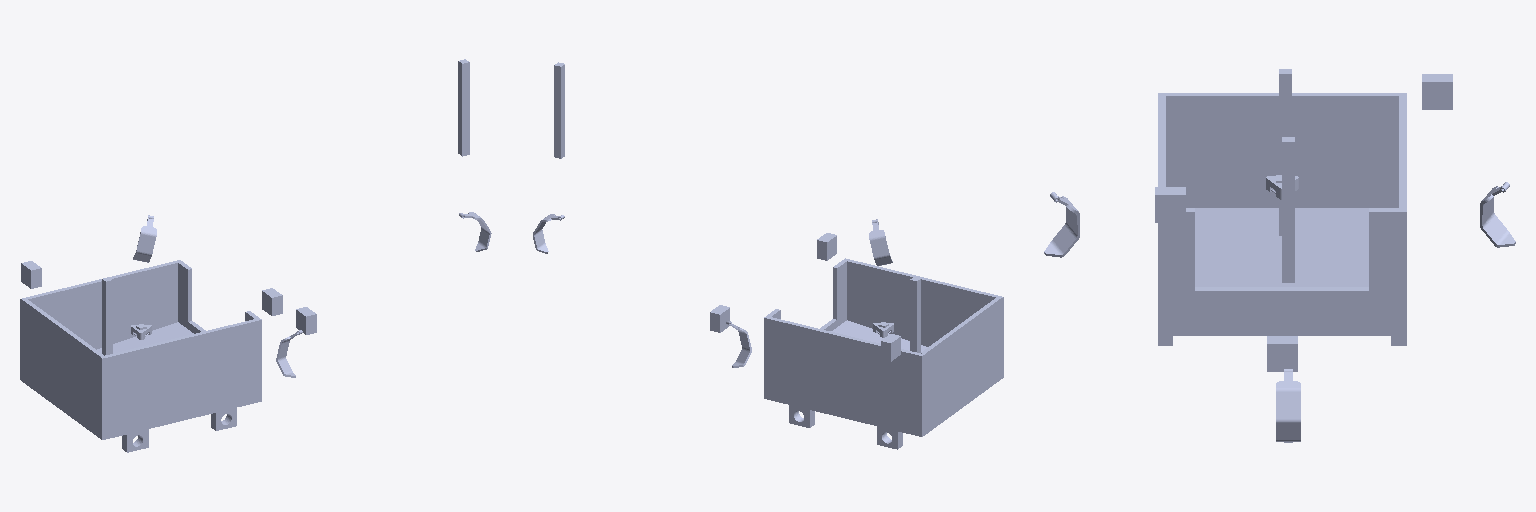
robot.urdf — bot12:
<?xml version="1.0" encoding="utf-8"?>
<!-- This URDF was automatically created by SolidWorks to URDF Exporter! Originally created by [author] ([email redacted]) 
     Commit Version: 1.4.4-24-g24328f6  Build Version: 1.5.7084.36479
     For more information, please see http://wiki.ros.org/sw_urdf_exporter -->
<robot
  name="bot12">
  <link
    name="base_link">
    <inertial>
      <origin
        xyz="0.029232 0.047061 -5.6957E-05"
        rpy="0 0 0" />
      <mass
        value="10.067" />
      <inertia
        ixx="0.22006"
        ixy="-0.0014375"
        ixz="-6.9803E-05"
        iyy="0.35668"
        iyz="7.4306E-05"
        izz="0.19974" />
    </inertial>
    <visual>
      <origin
        xyz="0 0 0"
        rpy="0 0 0" />
      <geometry>
        <mesh
          filename="package://bot12/meshes/base_link.STL" />
      </geometry>
      <material
        name="">
        <color
          rgba="0.79216 0.81961 0.93333 1" />
      </material>
    </visual>
    <collision>
      <origin
        xyz="0 0 0"
        rpy="0 0 0" />
      <geometry>
        <mesh
          filename="package://bot12/meshes/base_link.STL" />
      </geometry>
    </collision>
  </link>
  <link
    name="FRW">
    <inertial>
      <origin
        xyz="0 -7.5392E-05 -0.089381"
        rpy="0 0 0" />
      <mass
        value="0.8334" />
      <inertia
        ixx="0.0021574"
        ixy="4.8789E-19"
        ixz="1.756E-19"
        iyy="0.0021606"
        iyz="-8.5571E-07"
        izz="0.0039286" />
    </inertial>
    <visual>
      <origin
        xyz="0 0 0"
        rpy="0 0 0" />
      <geometry>
        <mesh
          filename="package://bot12/meshes/FRW.STL" />
      </geometry>
      <material
        name="">
        <color
          rgba="0.79216 0.81961 0.93333 1" />
      </material>
    </visual>
    <collision>
      <origin
        xyz="0 0 0"
        rpy="0 0 0" />
      <geometry>
        <mesh
          filename="package://bot12/meshes/FRW.STL" />
      </geometry>
    </collision>
  </link>
  <joint
    name="FRWJ"
    type="continuous">
    <origin
      xyz="0.125 -0.13 -0.025"
      rpy="1.5708 0.39309 -3.1416" />
    <parent
      link="base_link" />
    <child
      link="FRW" />
    <axis
      xyz="0 0 1" />
    <safety_controller
      k_velocity="0" />
  </joint>
  <link
    name="RRW">
    <inertial>
      <origin
        xyz="-2.7756E-17 -7.5392E-05 -0.089381"
        rpy="0 0 0" />
      <mass
        value="0.8334" />
      <inertia
        ixx="0.0021574"
        ixy="6.5052E-19"
        ixz="4.6852E-20"
        iyy="0.0021606"
        iyz="-8.5571E-07"
        izz="0.0039286" />
    </inertial>
    <visual>
      <origin
        xyz="0 0 0"
        rpy="0 0 0" />
      <geometry>
        <mesh
          filename="package://bot12/meshes/RRW.STL" />
      </geometry>
      <material
        name="">
        <color
          rgba="0.79216 0.81961 0.93333 1" />
      </material>
    </visual>
    <collision>
      <origin
        xyz="0 0 0"
        rpy="0 0 0" />
      <geometry>
        <mesh
          filename="package://bot12/meshes/RRW.STL" />
      </geometry>
    </collision>
  </link>
  <joint
    name="RRWJ"
    type="continuous">
    <origin
      xyz="-0.125 -0.13 -0.025"
      rpy="1.5707963267949 0.39309481042652 -3.14159265358979" />
    <parent
      link="base_link" />
    <child
      link="RRW" />
    <axis
      xyz="0 0 1" />
    <safety_controller
      k_velocity="0" />
  </joint>
  <link
    name="FLW">
    <inertial>
      <origin
        xyz="0 -7.5392E-05 -0.089381"
        rpy="0 0 0" />
      <mass
        value="0.8334" />
      <inertia
        ixx="0.0021574"
        ixy="-8.7964E-21"
        ixz="2.7837E-19"
        iyy="0.0021606"
        iyz="-8.5571E-07"
        izz="0.0039286" />
    </inertial>
    <visual>
      <origin
        xyz="0 0 0"
        rpy="0 0 0" />
      <geometry>
        <mesh
          filename="package://bot12/meshes/FLW.STL" />
      </geometry>
      <material
        name="">
        <color
          rgba="0.79216 0.81961 0.93333 1" />
      </material>
    </visual>
    <collision>
      <origin
        xyz="0 0 0"
        rpy="0 0 0" />
      <geometry>
        <mesh
          filename="package://bot12/meshes/FLW.STL" />
      </geometry>
    </collision>
  </link>
  <joint
    name="FLWJ"
    type="continuous">
    <origin
      xyz="0.125000000000004 0.13 -0.025"
      rpy="1.5707963267949 0 0" />
    <parent
      link="base_link" />
    <child
      link="FLW" />
    <axis
      xyz="0 0 1" />
    <safety_controller
      k_velocity="0" />
  </joint>
  <link
    name="RLW">
    <inertial>
      <origin
        xyz="-1.3878E-17 -7.5392E-05 -0.089381"
        rpy="0 0 0" />
      <mass
        value="0.8334" />
      <inertia
        ixx="0.0021574"
        ixy="-8.7964E-21"
        ixz="2.7837E-19"
        iyy="0.0021606"
        iyz="-8.5571E-07"
        izz="0.0039286" />
    </inertial>
    <visual>
      <origin
        xyz="0 0 0"
        rpy="0 0 0" />
      <geometry>
        <mesh
          filename="package://bot12/meshes/RLW.STL" />
      </geometry>
      <material
        name="">
        <color
          rgba="0.79216 0.81961 0.93333 1" />
      </material>
    </visual>
    <collision>
      <origin
        xyz="0 0 0"
        rpy="0 0 0" />
      <geometry>
        <mesh
          filename="package://bot12/meshes/RLW.STL" />
      </geometry>
    </collision>
  </link>
  <joint
    name="RLWJ"
    type="continuous">
    <origin
      xyz="-0.124999999999996 0.13 -0.025"
      rpy="1.5707963267949 0 0" />
    <parent
      link="base_link" />
    <child
      link="RLW" />
    <axis
      xyz="0 0 1" />
    <safety_controller
      k_velocity="0" />
  </joint>
  <link
    name="FC">
    <inertial>
      <origin
        xyz="0.015 -6.9389E-18 -3.7101E-17"
        rpy="0 0 0" />
      <mass
        value="0.075" />
      <inertia
        ixx="3.125E-05"
        ixy="0"
        ixz="-4.5918E-38"
        iyy="2.125E-05"
        iyz="-1.9516E-21"
        izz="2.125E-05" />
    </inertial>
    <visual>
      <origin
        xyz="0 0 0"
        rpy="0 0 0" />
      <geometry>
        <mesh
          filename="package://bot12/meshes/FC.STL" />
      </geometry>
      <material
        name="">
        <color
          rgba="0.79216 0.81961 0.93333 1" />
      </material>
    </visual>
    <collision>
      <origin
        xyz="0 0 0"
        rpy="0 0 0" />
      <geometry>
        <mesh
          filename="package://bot12/meshes/FC.STL" />
      </geometry>
    </collision>
  </link>
  <joint
    name="FCJ"
    type="fixed">
    <origin
      xyz="0.225 0 0.04"
      rpy="1.5707963267949 0 0" />
    <parent
      link="base_link" />
    <child
      link="FC" />
    <axis
      xyz="0 0 0" />
    <safety_controller
      k_velocity="0" />
  </joint>
  <link
    name="RC">
    <inertial>
      <origin
        xyz="0.015 0 -6.9389E-18"
        rpy="0 0 0" />
      <mass
        value="0.075" />
      <inertia
        ixx="3.125E-05"
        ixy="-1.6263E-22"
        ixz="4.2352E-22"
        iyy="2.125E-05"
        iyz="-1.3056E-21"
        izz="2.125E-05" />
    </inertial>
    <visual>
      <origin
        xyz="0 0 0"
        rpy="0 0 0" />
      <geometry>
        <mesh
          filename="package://bot12/meshes/RC.STL" />
      </geometry>
      <material
        name="">
        <color
          rgba="0.79216 0.81961 0.93333 1" />
      </material>
    </visual>
    <collision>
      <origin
        xyz="0 0 0"
        rpy="0 0 0" />
      <geometry>
        <mesh
          filename="package://bot12/meshes/RC.STL" />
      </geometry>
    </collision>
  </link>
  <joint
    name="RCJ"
    type="fixed">
    <origin
      xyz="0.0500000000000001 -0.23 0.125"
      rpy="1.5707963267949 0 1.5707963267949" />
    <parent
      link="base_link" />
    <child
      link="RC" />
    <axis
      xyz="0 0 0" />
    <safety_controller
      k_velocity="0" />
  </joint>
  <link
    name="LC">
    <inertial>
      <origin
        xyz="0.015 0 6.9389E-18"
        rpy="0 0 0" />
      <mass
        value="0.075" />
      <inertia
        ixx="3.125E-05"
        ixy="-1.6263E-22"
        ixz="4.2352E-22"
        iyy="2.125E-05"
        iyz="6.5052E-22"
        izz="2.125E-05" />
    </inertial>
    <visual>
      <origin
        xyz="0 0 0"
        rpy="0 0 0" />
      <geometry>
        <mesh
          filename="package://bot12/meshes/LC.STL" />
      </geometry>
      <material
        name="">
        <color
          rgba="0.79216 0.81961 0.93333 1" />
      </material>
    </visual>
    <collision>
      <origin
        xyz="0 0 0"
        rpy="0 0 0" />
      <geometry>
        <mesh
          filename="package://bot12/meshes/LC.STL" />
      </geometry>
    </collision>
  </link>
  <joint
    name="LCJ"
    type="fixed">
    <origin
      xyz="0.05 0.2 0.125"
      rpy="1.5707963267949 0 1.5707963267949" />
    <parent
      link="base_link" />
    <child
      link="LC" />
    <axis
      xyz="0 0 0" />
    <safety_controller
      k_velocity="0" />
  </joint>
  <link
    name="B">
    <inertial>
      <origin
        xyz="0.00625 0.099085 -2.2196E-17"
        rpy="0 0 0" />
      <mass
        value="0.92892" />
      <inertia
        ixx="0.013926"
        ixy="-1.0304E-36"
        ixz="3.5706E-20"
        iyy="0.010898"
        iyz="-5.0118E-19"
        izz="0.0030521" />
    </inertial>
    <visual>
      <origin
        xyz="0 0 0"
        rpy="0 0 0" />
      <geometry>
        <mesh
          filename="package://bot12/meshes/B.STL" />
      </geometry>
      <material
        name="">
        <color
          rgba="0.79216 0.81961 0.93333 1" />
      </material>
    </visual>
    <collision>
      <origin
        xyz="0 0 0"
        rpy="0 0 0" />
      <geometry>
        <mesh
          filename="package://bot12/meshes/B.STL" />
      </geometry>
    </collision>
  </link>
  <joint
    name="BJ"
    type="prismatic">
    <origin
      xyz="-0.225 0 0.022817"
      rpy="1.5708 0 0" />
    <parent
      link="base_link" />
    <child
      link="B" />
    <axis
      xyz="0 1 0" />
    <limit
      lower="-0.15"
      upper="0"
      effort="100"
      velocity="0.1" />
    <safety_controller
      k_velocity="0" />
  </joint>
  <link
    name="EP1">
    <inertial>
      <origin
        xyz="0.1725 0 3.7297E-17"
        rpy="0 0 0" />
      <mass
        value="0.22" />
      <inertia
        ixx="1.4667E-05"
        ixy="0"
        ixz="-5.2475E-21"
        iyy="0.0055532"
        iyz="1.2721E-22"
        izz="0.0055532" />
    </inertial>
    <visual>
      <origin
        xyz="0 0 0"
        rpy="0 0 0" />
      <geometry>
        <mesh
          filename="package://bot12/meshes/EP1.STL" />
      </geometry>
      <material
        name="">
        <color
          rgba="0.79216 0.81961 0.93333 1" />
      </material>
    </visual>
    <collision>
      <origin
        xyz="0 0 0"
        rpy="0 0 0" />
      <geometry>
        <mesh
          filename="package://bot12/meshes/EP1.STL" />
      </geometry>
    </collision>
  </link>
  <joint
    name="EP1J"
    type="prismatic">
    <origin
      xyz="0 0.005 0.33"
      rpy="1.5708 0 0" />
    <parent
      link="base_link" />
    <child
      link="EP1" />
    <axis
      xyz="1 0 0" />
    <limit
      lower="0"
      upper="0.35"
      effort="100"
      velocity="0.1" />
    <safety_controller
      k_velocity="0" />
  </joint>
  <link
    name="EP2">
    <inertial>
      <origin
        xyz="-5.5511E-17 -0.115 -9.4542E-17"
        rpy="0 0 0" />
      <mass
        value="0.1" />
      <inertia
        ixx="0.00052417"
        ixy="-1.1327E-36"
        ixz="-2.5163E-22"
        iyy="6.6667E-06"
        iyz="1.7647E-21"
        izz="0.00052417" />
    </inertial>
    <visual>
      <origin
        xyz="0 0 0"
        rpy="0 0 0" />
      <geometry>
        <mesh
          filename="package://bot12/meshes/EP2.STL" />
      </geometry>
      <material
        name="">
        <color
          rgba="0.79216 0.81961 0.93333 1" />
      </material>
    </visual>
    <collision>
      <origin
        xyz="0 0 0"
        rpy="0 0 0" />
      <geometry>
        <mesh
          filename="package://bot12/meshes/EP2.STL" />
      </geometry>
    </collision>
  </link>
  <joint
    name="EP2J"
    type="prismatic">
    <origin
      xyz="0.4575 0 0"
      rpy="0 0 0" />
    <parent
      link="EP1" />
    <child
      link="EP2" />
    <axis
      xyz="0 1 0" />
    <limit
      lower="-0.23"
      upper="0"
      effort="100"
      velocity="0.1" />
    <safety_controller
      k_velocity="0" />
  </joint>
  <link
    name="CH">
    <inertial>
      <origin
        xyz="-1.1102E-16 -0.008042 -2.1684E-17"
        rpy="0 0 0" />
      <mass
        value="0.026574" />
      <inertia
        ixx="4.7597E-06"
        ixy="-2.2618E-21"
        ixz="-4.4282E-21"
        iyy="7.4378E-06"
        iyz="-5.6877E-21"
        izz="4.7597E-06" />
    </inertial>
    <visual>
      <origin
        xyz="0 0 0"
        rpy="0 0 0" />
      <geometry>
        <mesh
          filename="package://bot12/meshes/CH.STL" />
      </geometry>
      <material
        name="">
        <color
          rgba="0.79216 0.81961 0.93333 1" />
      </material>
    </visual>
    <collision>
      <origin
        xyz="0 0 0"
        rpy="0 0 0" />
      <geometry>
        <mesh
          filename="package://bot12/meshes/CH.STL" />
      </geometry>
    </collision>
  </link>
  <joint
    name="CHJ"
    type="fixed">
    <origin
      xyz="0 -0.245 0"
      rpy="3.1416 0 3.1416" />
    <parent
      link="EP2" />
    <child
      link="CH" />
    <axis
      xyz="0 0 0" />
    <safety_controller
      k_velocity="0" />
  </joint>
  <link
    name="F1">
    <inertial>
      <origin
        xyz="0.021298 -0.064967 5.5279E-08"
        rpy="0 0 0" />
      <mass
        value="0.026963" />
      <inertia
        ixx="3.4145E-05"
        ixy="-3.7053E-06"
        ixz="1.4921E-11"
        iyy="7.6085E-06"
        iyz="-5.0153E-11"
        izz="3.5529E-05" />
    </inertial>
    <visual>
      <origin
        xyz="0 0 0"
        rpy="0 0 0" />
      <geometry>
        <mesh
          filename="package://bot12/meshes/F1.STL" />
      </geometry>
      <material
        name="">
        <color
          rgba="0.79216 0.81961 0.93333 1" />
      </material>
    </visual>
    <collision>
      <origin
        xyz="0 0 0"
        rpy="0 0 0" />
      <geometry>
        <mesh
          filename="package://bot12/meshes/F1.STL" />
      </geometry>
    </collision>
  </link>
  <joint
    name="F1J"
    type="revolute">
    <origin
      xyz="-0.014321 -0.017 0"
      rpy="3.1416 0 2.8798" />
    <parent
      link="CH" />
    <child
      link="F1" />
    <axis
      xyz="0 0 1" />
    <limit
      lower="-1.0472"
      upper="0"
      effort="100"
      velocity="0.125" />
    <safety_controller
      k_velocity="0" />
  </joint>
  <link
    name="F2">
    <inertial>
      <origin
        xyz="0.021298 -0.064967 6.1784E-08"
        rpy="0 0 0" />
      <mass
        value="0.026963" />
      <inertia
        ixx="3.4145E-05"
        ixy="-3.7053E-06"
        ixz="1.4729E-11"
        iyy="7.6085E-06"
        iyz="-5.8707E-11"
        izz="3.5528E-05" />
    </inertial>
    <visual>
      <origin
        xyz="0 0 0"
        rpy="0 0 0" />
      <geometry>
        <mesh
          filename="package://bot12/meshes/F2.STL" />
      </geometry>
      <material
        name="">
        <color
          rgba="0.79216 0.81961 0.93333 1" />
      </material>
    </visual>
    <collision>
      <origin
        xyz="0 0 0"
        rpy="0 0 0" />
      <geometry>
        <mesh
          filename="package://bot12/meshes/F2.STL" />
      </geometry>
    </collision>
  </link>
  <joint
    name="F2J"
    type="revolute">
    <origin
      xyz="0.0071603 -0.017 -0.012402"
      rpy="0.42143 0.99089 0.49195" />
    <parent
      link="CH" />
    <child
      link="F2" />
    <axis
      xyz="0 0 1" />
    <limit
      lower="0"
      upper="1.0472"
      effort="100"
      velocity="0.125" />
    <safety_controller
      k_velocity="0" />
  </joint>
  <link
    name="F3">
    <inertial>
      <origin
        xyz="0.03073 -0.085094 4.5374E-08"
        rpy="0 0 0" />
      <mass
        value="0.026963" />
      <inertia
        ixx="3.4145E-05"
        ixy="-3.7053E-06"
        ixz="1.3008E-11"
        iyy="7.6085E-06"
        iyz="-4.7018E-11"
        izz="3.5529E-05" />
    </inertial>
    <visual>
      <origin
        xyz="0 0 0"
        rpy="0 0 0" />
      <geometry>
        <mesh
          filename="package://bot12/meshes/F3.STL" />
      </geometry>
      <material
        name="">
        <color
          rgba="0.79216 0.81961 0.93333 1" />
      </material>
    </visual>
    <collision>
      <origin
        xyz="0 0 0"
        rpy="0 0 0" />
      <geometry>
        <mesh
          filename="package://bot12/meshes/F3.STL" />
      </geometry>
    </collision>
  </link>
  <joint
    name="F3J"
    type="revolute">
    <origin
      xyz="0 0 0"
      rpy="-0.42143 -0.99089 0.49195" />
    <parent
      link="CH" />
    <child
      link="F3" />
    <axis
      xyz="0 0 1" />
    <limit
      lower="-1.0472"
      upper="0"
      effort="100"
      velocity="0.125" />
    <safety_controller
      k_velocity="0" />
  </joint>
</robot>

--- What the picture shows (computed from the rendered views, not written in the file) ---
Views: 3 orthographic renders of the robot side by side, from view 1: azimuth 30°, elevation 25°; view 2: azimuth 150°, elevation 25°; view 3: azimuth 270°, elevation 25°.
Model bot12 with 15 links and 14 joints (3 revolute, 4 continuous, 3 prismatic, 4 fixed), rooted at base_link, posed all joints at 0.
Links seen in each view (by area): view 1: base_link, B, EP2, F3; view 2: base_link, B, EP2, F2; view 3: base_link, B, EP2, F1, F3, F2, RC, LC, FC.
Boxes of the visible links, x1=… form: base_link: x1=20, y1=260, x2=261, y2=452; B: x1=23, y1=299, x2=103, y2=429; EP2: x1=458, y1=59, x2=469, y2=156; F3: x1=133, y1=215, x2=156, y2=262; base_link: x1=764, y1=258, x2=1003, y2=449; B: x1=921, y1=297, x2=1000, y2=426; EP2: x1=554, y1=62, x2=564, y2=158; F2: x1=869, y1=219, x2=892, y2=265; base_link: x1=1158, y1=69, x2=1406, y2=345; B: x1=1166, y1=93, x2=1398, y2=207; EP2: x1=1282, y1=137, x2=1294, y2=282; F1: x1=1276, y1=369, x2=1300, y2=442; F3: x1=1480, y1=182, x2=1515, y2=247; F2: x1=1044, y1=192, x2=1079, y2=257; RC: x1=1155, y1=187, x2=1185, y2=222; LC: x1=1422, y1=74, x2=1452, y2=109; FC: x1=1267, y1=336, x2=1297, y2=371.
Bounding box of the posed robot: 1.21 × 0.7567 × 0.72 m (x, y, z).
10 mesh visuals loaded from 15 distinct referenced files (10 binary STL); not drawn: 5 (reference not matched to a file when rendering).